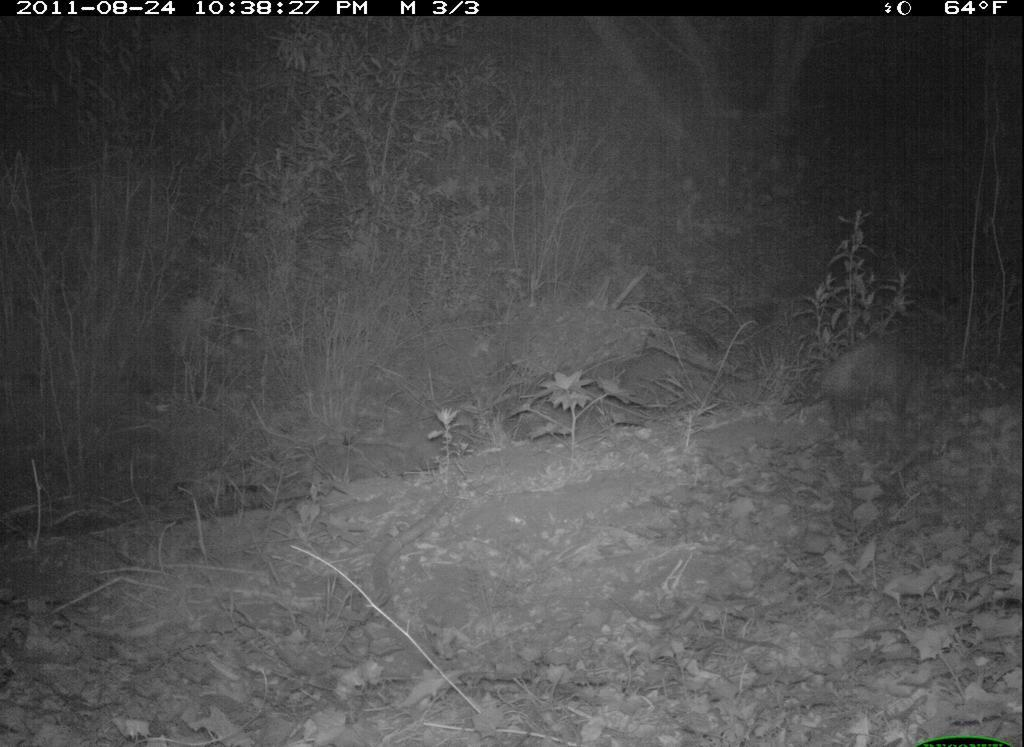opossum: (808, 331, 961, 452)
